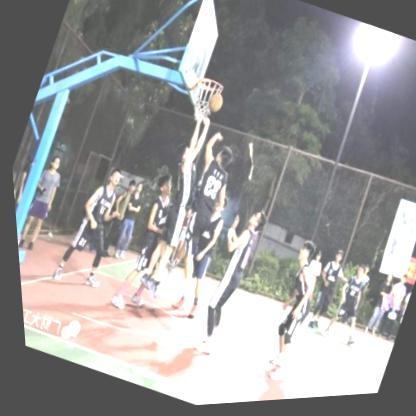basketball: (203, 93, 224, 117)
rim: (182, 77, 224, 127)
